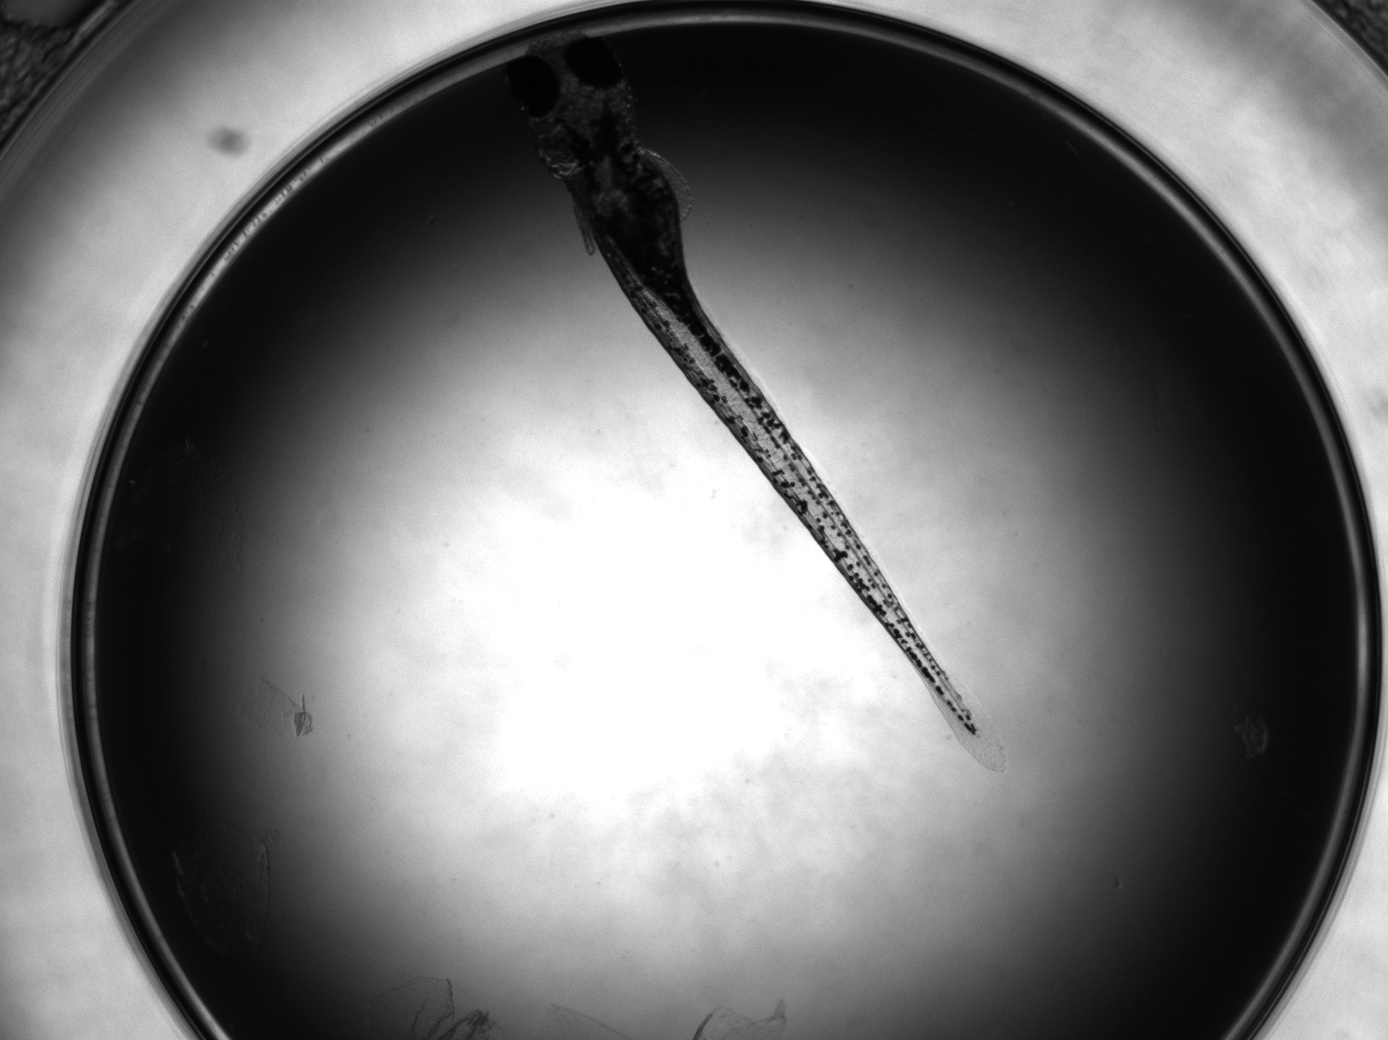embryo: (518, 31, 978, 737)
eye: (563, 38, 625, 90), (518, 54, 562, 116)
yolksac: (572, 144, 700, 310)
